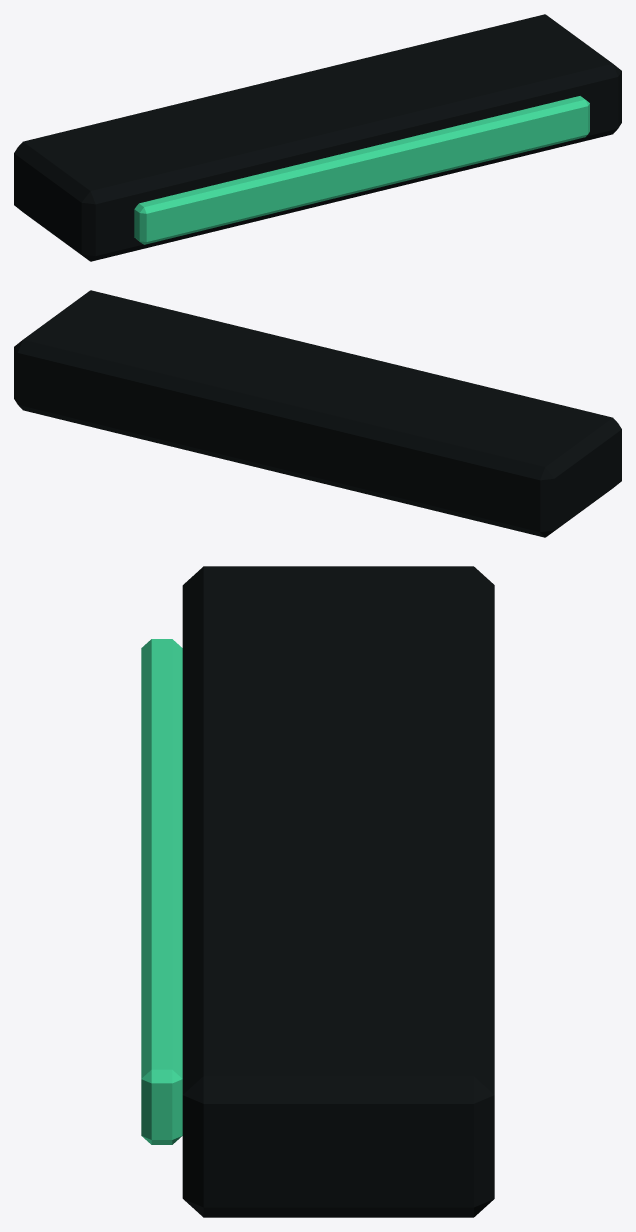
File: SM_MP_Wall_Light.fbx
3 renders of one model, top to bottom at view 1: azimuth 30°, elevation 25°; view 2: azimuth 150°, elevation 25°; view 3: azimuth 270°, elevation 25°, orthographic. The views are drawn at different scales.
Parts seen in each view (by area): view 1: SM_MP_Wall_Light; view 2: SM_MP_Wall_Light; view 3: SM_MP_Wall_Light.
Part boxes in pixels (x1,y1,x2,y2): SM_MP_Wall_Light: (14, 14, 621, 261); SM_MP_Wall_Light: (14, 290, 621, 537); SM_MP_Wall_Light: (141, 566, 494, 1217).
Bounding box in the file's own units: 120 × 34 × 15.
1 material, 1 textured.
